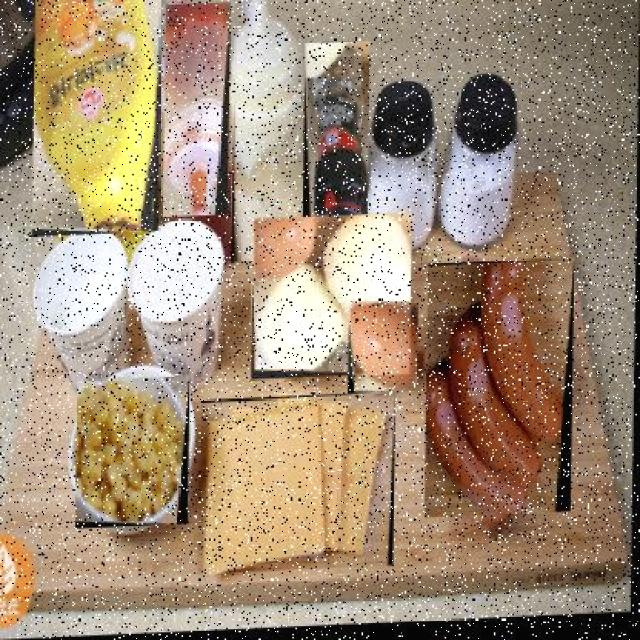Cheese: (198, 394, 396, 578)
Corn: (75, 378, 191, 532)
Egg: (347, 305, 419, 401)
Ketchup: (162, 4, 230, 221)
Mayonnaise: (230, 0, 307, 268)
Potato: (250, 216, 412, 384)
Sausage: (424, 263, 576, 523)
